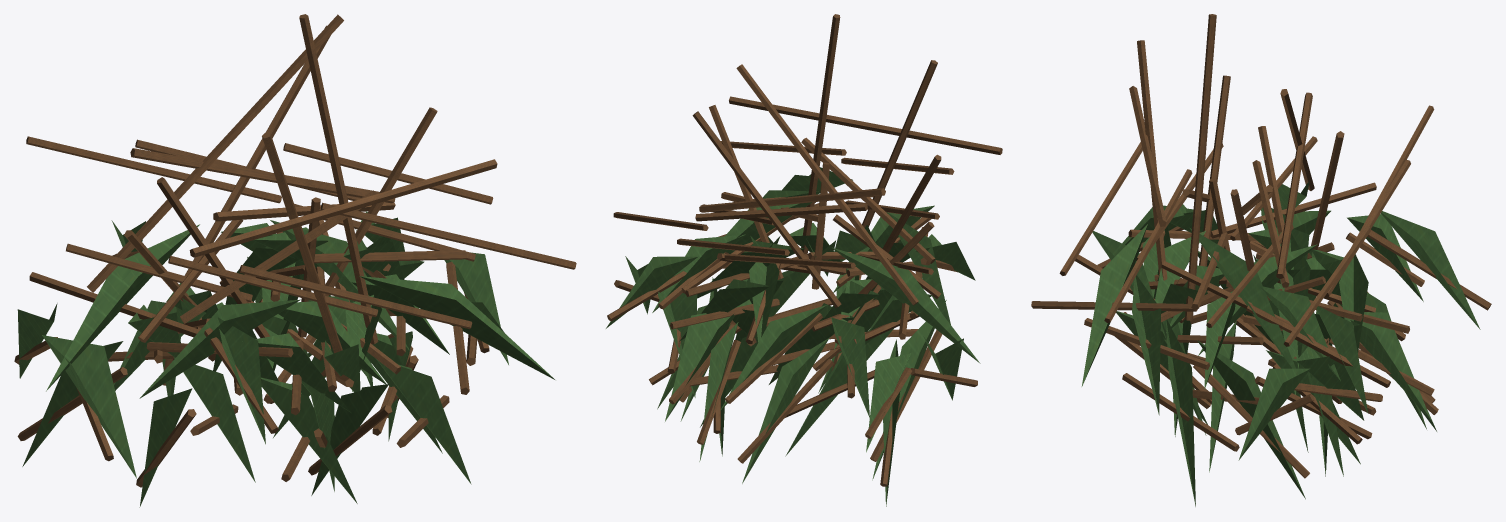
File: en-013_cliff_edge_grass_set__short.obj
3 views of the same model, side by side, from view 1: azimuth 30°, elevation 25°; view 2: azimuth 150°, elevation 25°; view 3: azimuth 270°, elevation 25° (orthographic). The views are drawn at different scales.
Visible parts, largest first — view 1: en-013_cliff_edge_grass_set__short; view 2: en-013_cliff_edge_grass_set__short; view 3: en-013_cliff_edge_grass_set__short.
Part boxes in pixels (x1,y1,x2,y2): en-013_cliff_edge_grass_set__short: [14, 14, 576, 507]; en-013_cliff_edge_grass_set__short: [606, 14, 1002, 506]; en-013_cliff_edge_grass_set__short: [1031, 14, 1491, 506].
Bounding box in the file's own units: 0.749 × 0.809 × 0.7742.
2 materials, 2 textured.
